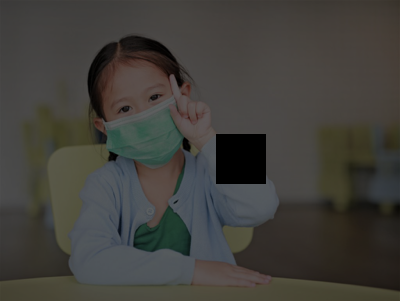with_mask: (103, 82, 179, 163)
